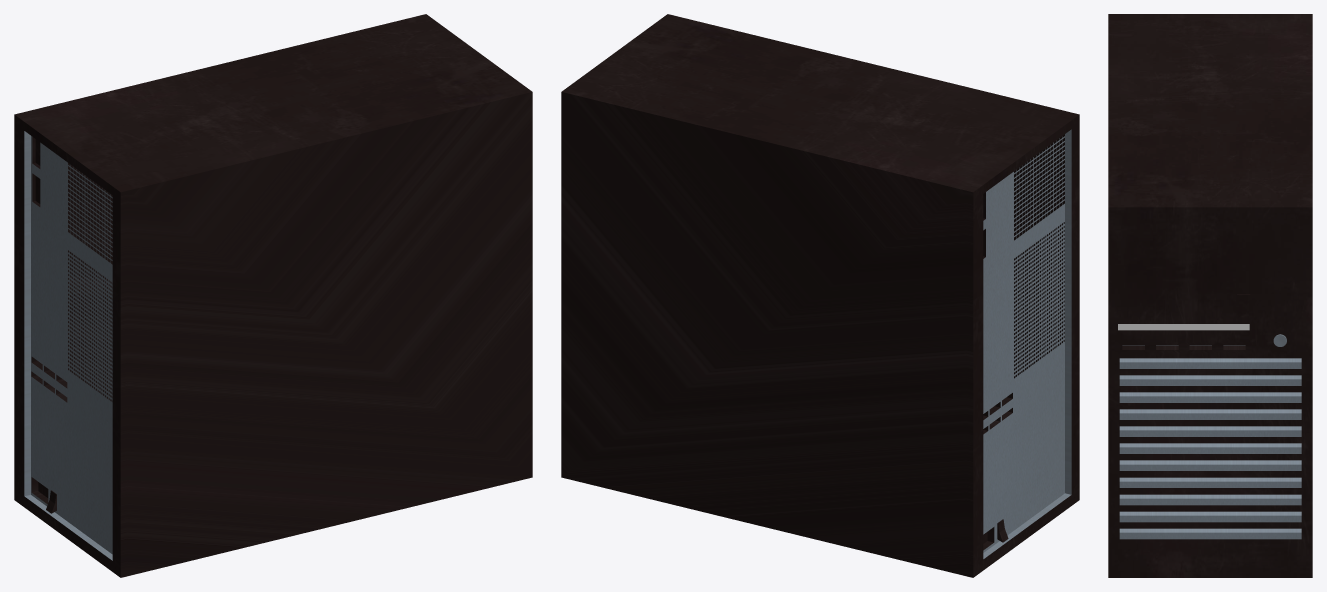
File: Tower.fbx
3 renders of one model, left to right at view 1: azimuth 30°, elevation 25°; view 2: azimuth 150°, elevation 25°; view 3: azimuth 270°, elevation 25°, orthographic. The views are drawn at different scales.
Parts seen in each view (by area): view 1: Cube; view 2: Cube; view 3: Cube.
Boxes of the visible parts, <box> form: Cube: <box>14,14,532,577</box>; Cube: <box>561,14,1079,577</box>; Cube: <box>1108,14,1312,577</box>.
Size of the model in its own units: 56.4 by 50 by 25.
